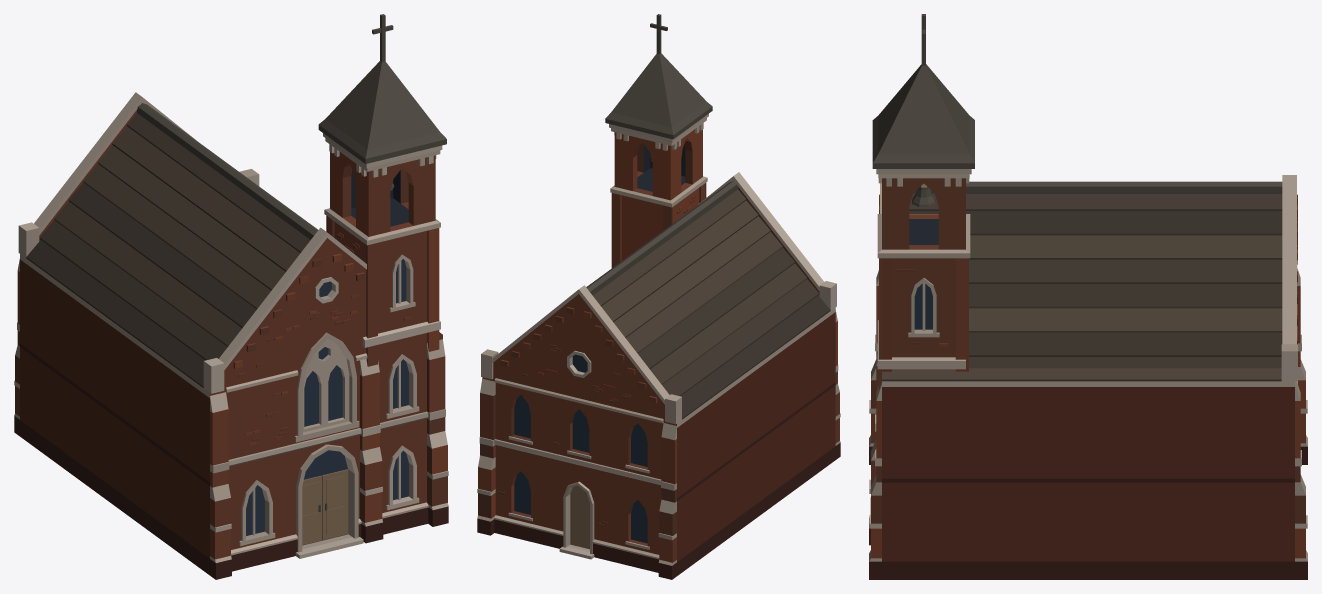
The model's file is brick-church-322885.glb.
3 views of the same model, side by side, from view 1: azimuth 30°, elevation 25°; view 2: azimuth 150°, elevation 25°; view 3: azimuth 270°, elevation 25° (orthographic). The views are drawn at different scales.
Parts seen in each view (by area): view 1: church-body, door-right, door-left; view 2: church-body; view 3: church-body.
Boxes of the visible parts, x1,y1,x2,y2 form: church-body: (14,14,448,579); door-right: (321,469,348,539); door-left: (302,475,321,544); church-body: (477,14,840,579); church-body: (869,14,1307,579).
Bounding box in the file's own units: 8 × 16.4 × 12.
